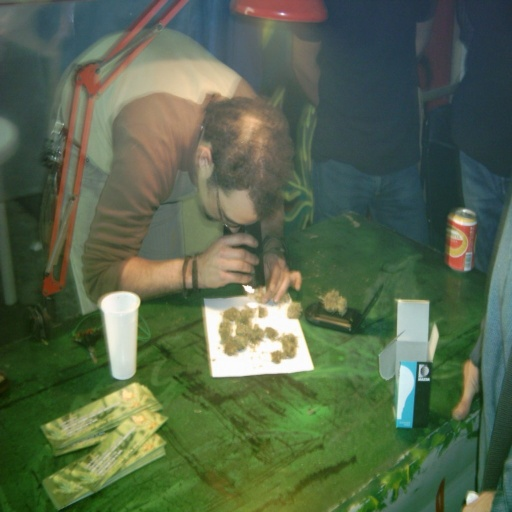hand: (194, 231, 258, 287), (259, 252, 301, 302), (450, 358, 479, 422), (462, 492, 496, 511)
